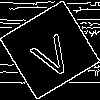V: (25, 25, 77, 82)
